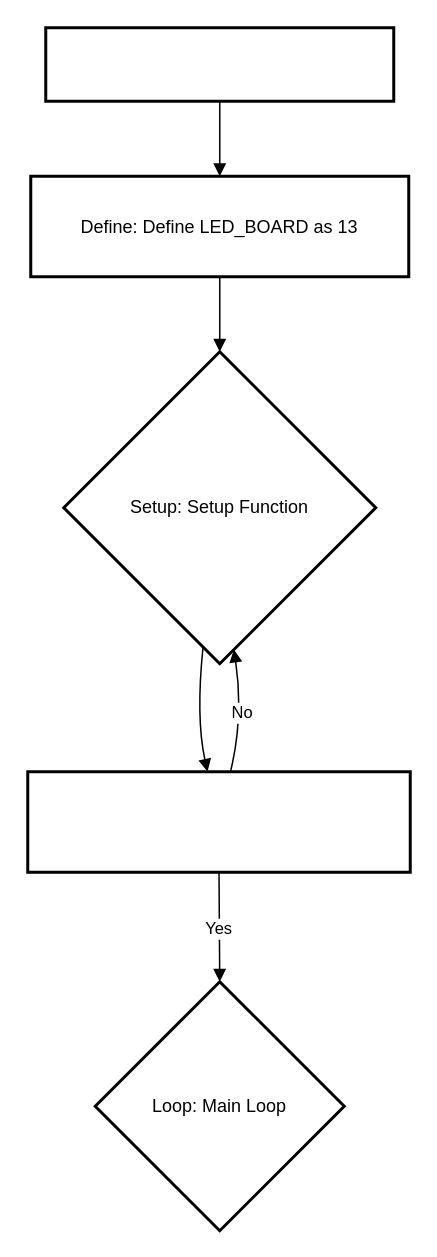
The diagram is 437 pixels wide and 1257 high, and some of its shapes have lost their labels. The centre of each missing label's shape, as x and y in pixels:
"Check: Check and Initialize LED_BOARD" belongs at (218,821).
"Start: Include Arduino.h" belongs at (219,64).
